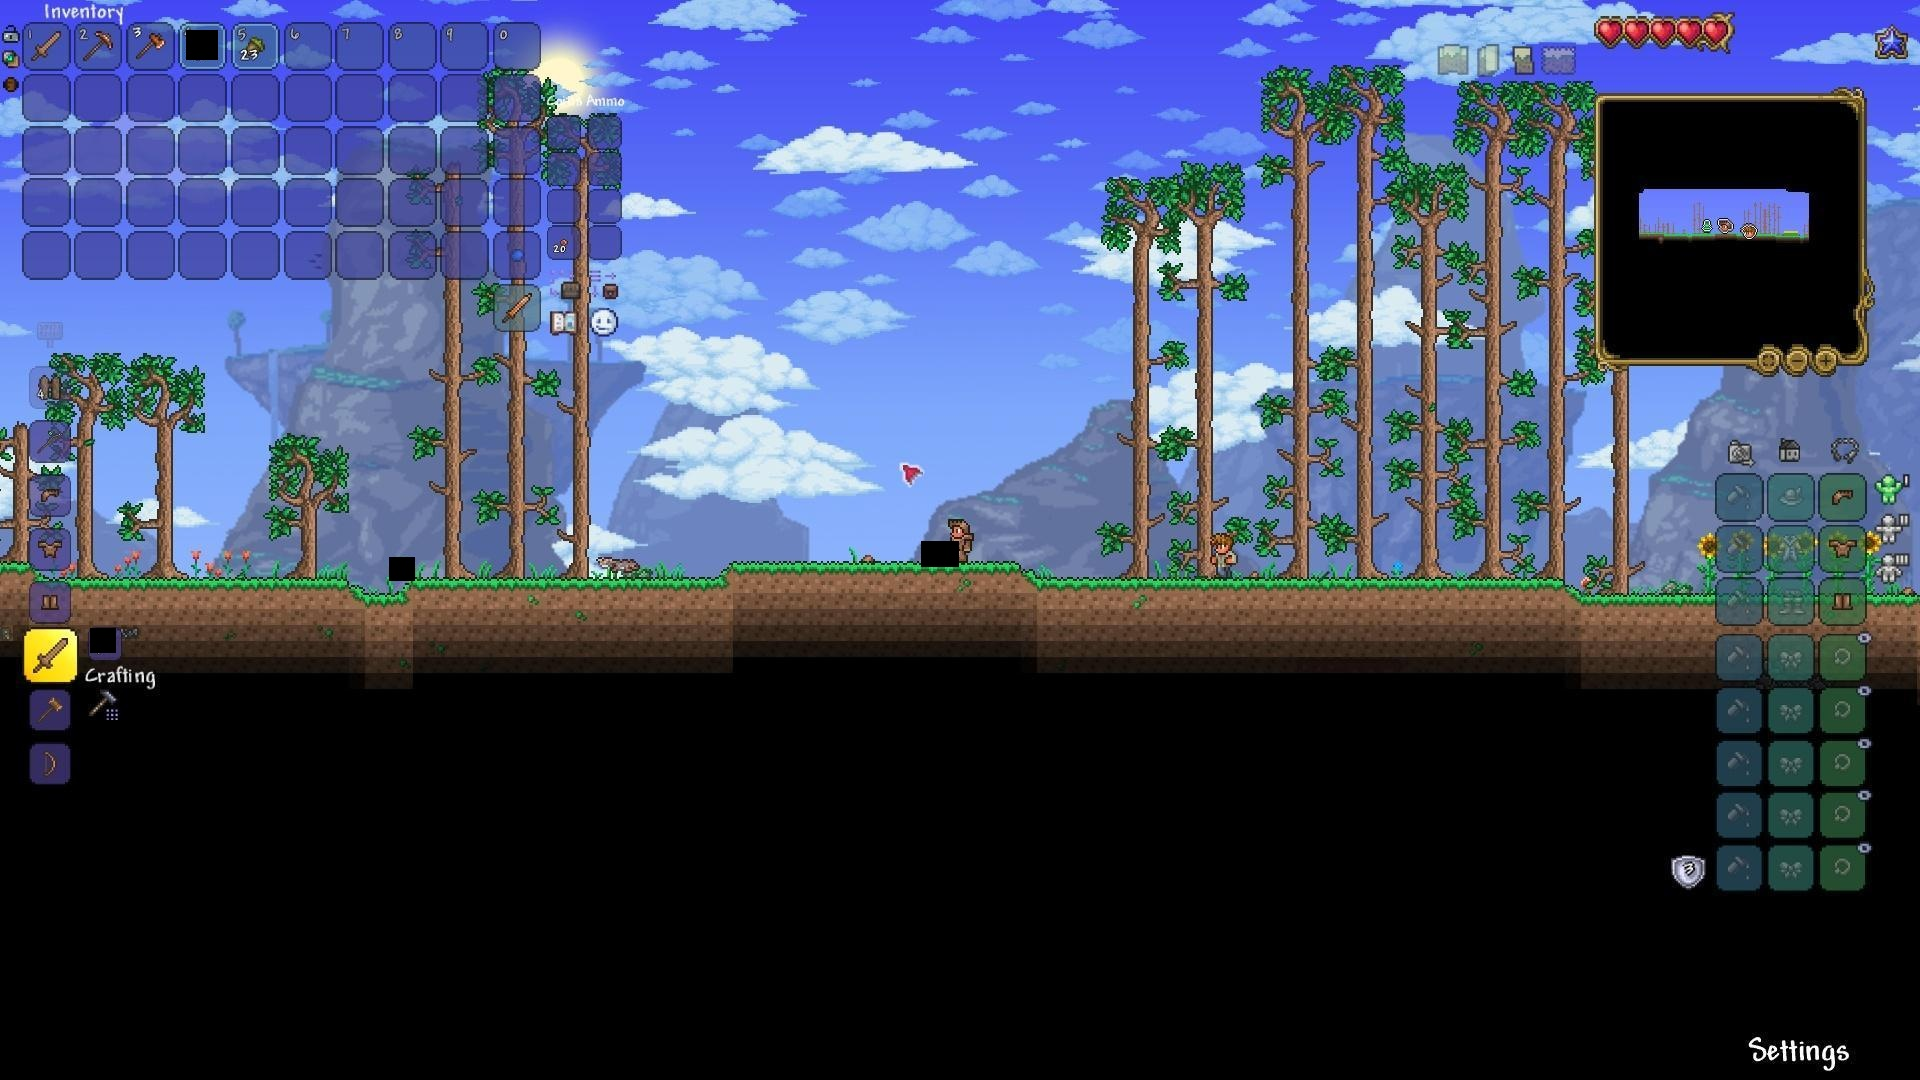breastplate: (34, 539, 62, 559), (1830, 539, 1859, 558)
helmet: (1826, 483, 1858, 510), (37, 480, 67, 508)
legs: (37, 588, 62, 616), (1830, 588, 1855, 615)
